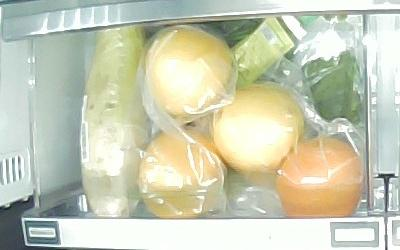grapefruit_vinyl: (214, 85, 303, 175), (146, 27, 233, 119), (140, 129, 227, 218), (275, 137, 362, 217)
